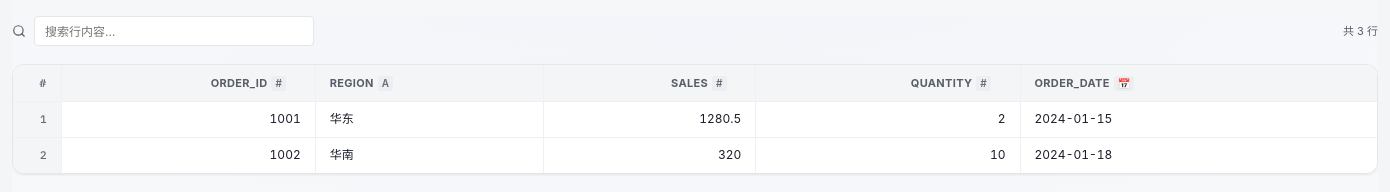
Scenario: DataTable › renders a persistent sort arrow that activates after sorting
Click the column heading "region": (430,83) top-left (315, 65), bottom-right (544, 101)
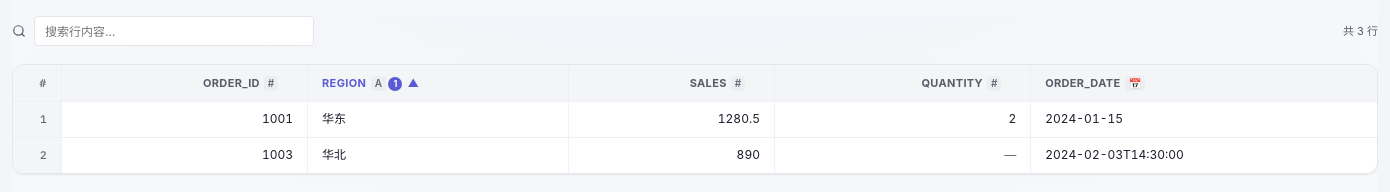
Now the text with class "data-table-arrow" reads "▲", box top-left (407, 76), bottom-right (419, 90)
Note:  再点一次切降序
Click the column heading "region": (438,83) top-left (308, 65), bottom-right (569, 101)
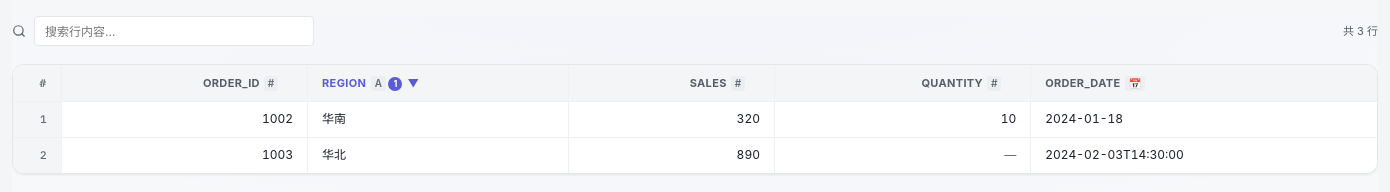
Now the text with class "data-table-arrow" reads "▼", box top-left (407, 76), bottom-right (419, 90)
